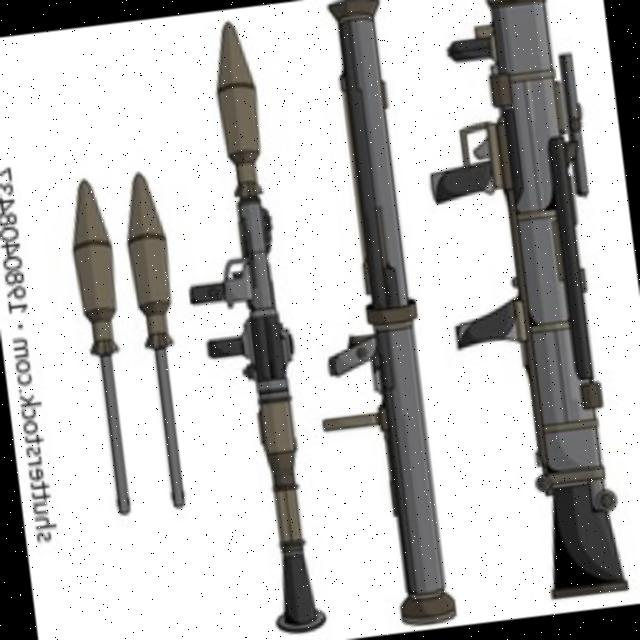Bazooka: (269, 0, 487, 630), (418, 0, 640, 608), (153, 19, 343, 640)
